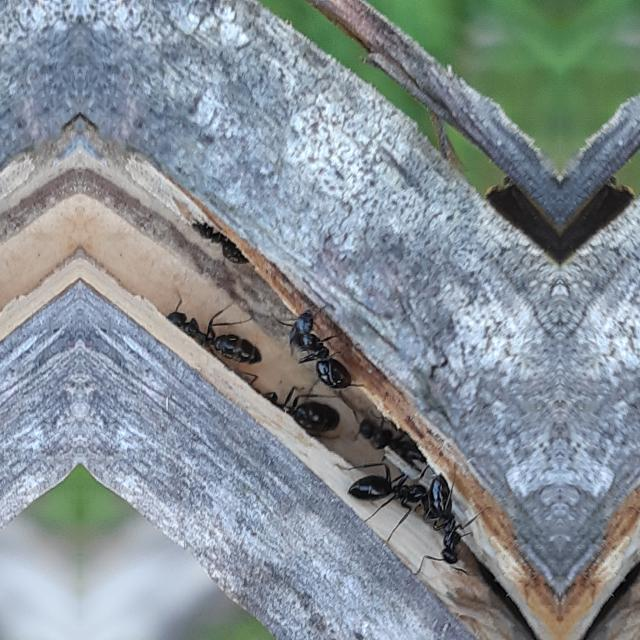Colobopsis: (156, 282, 262, 381), (280, 297, 354, 399), (422, 468, 478, 580), (346, 460, 432, 532), (258, 378, 344, 446), (352, 402, 428, 468), (184, 215, 260, 281)
